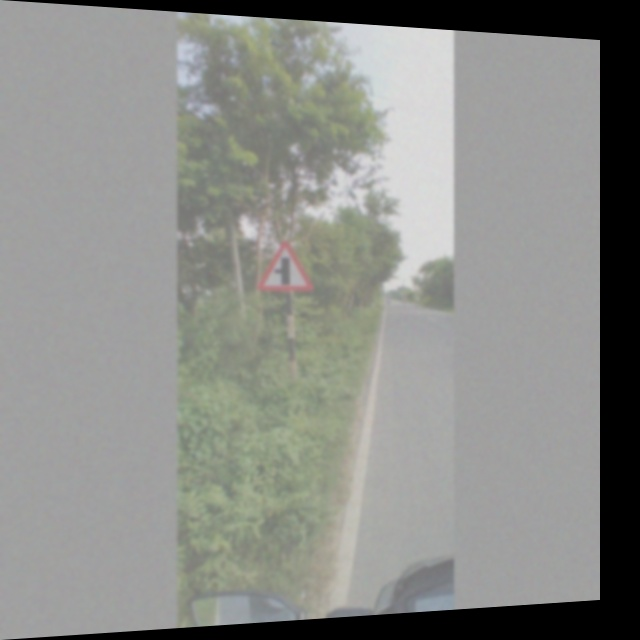Side_Road_Left: (253, 237, 319, 298)
